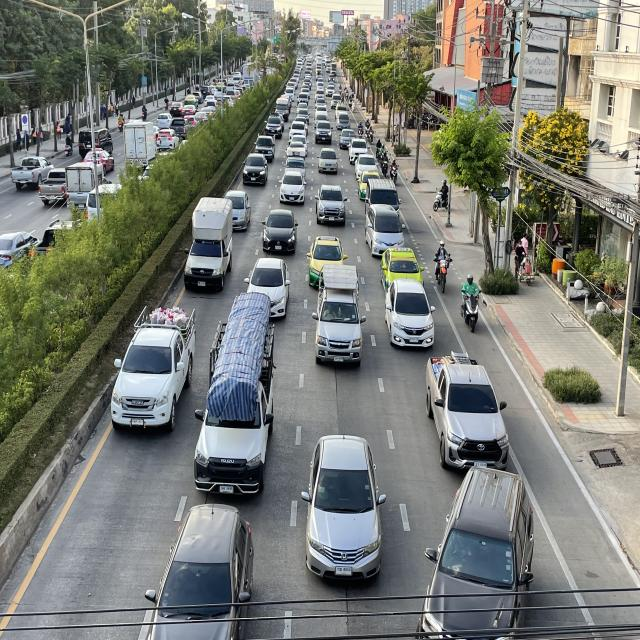bike: (460, 271, 482, 335), (433, 239, 452, 295), (434, 179, 449, 214), (390, 159, 398, 185), (381, 152, 389, 177)
car: (414, 464, 536, 640), (144, 503, 255, 640), (300, 432, 388, 586), (424, 353, 510, 474), (383, 278, 436, 350), (244, 258, 290, 319), (363, 203, 406, 259), (306, 234, 348, 290), (378, 246, 426, 294), (261, 208, 299, 254), (315, 184, 348, 226), (219, 190, 252, 231), (279, 171, 306, 205), (242, 152, 268, 186)
truck: (192, 294, 276, 499), (109, 302, 196, 438), (312, 264, 366, 369), (184, 197, 233, 293)
